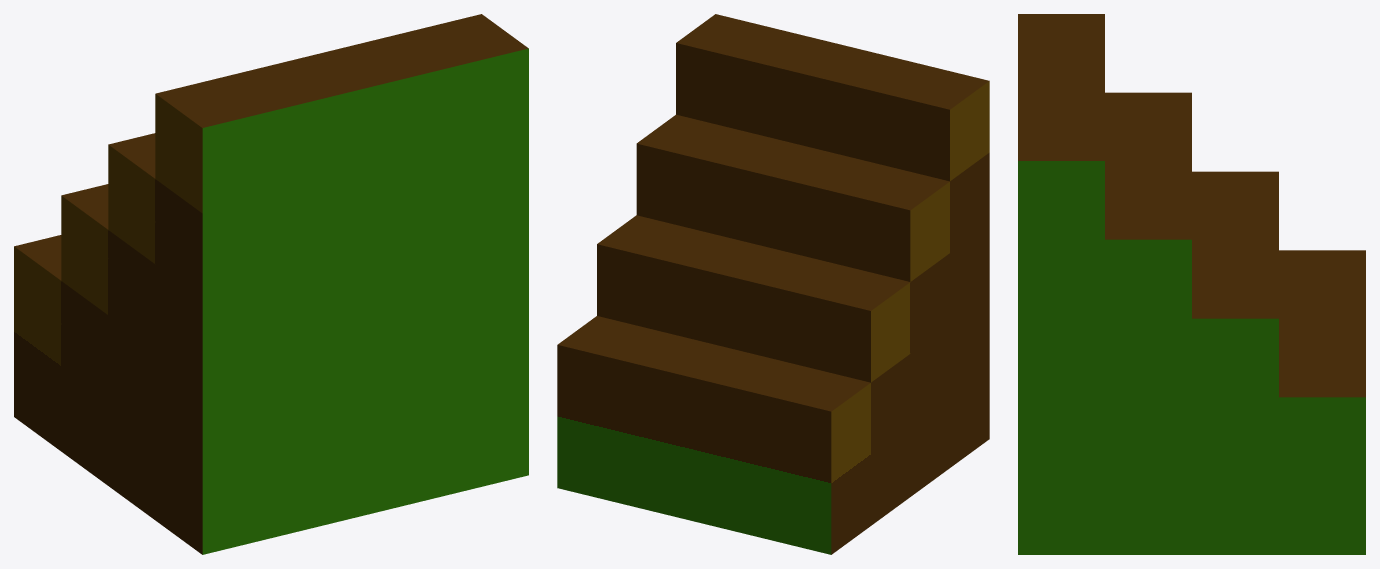
Rendered from block_3.fbx.
The picture shows the model from 3 angles, left to right: view 1: azimuth 30°, elevation 25°; view 2: azimuth 150°, elevation 25°; view 3: azimuth 270°, elevation 25°; orthographic projection. The views are drawn at different scales.
Visible parts, largest first — view 1: Box.008; view 2: Box.008; view 3: Box.008.
Boxes of the visible parts, <box> form: Box.008: <box>14,14,528,554</box>; Box.008: <box>557,14,989,554</box>; Box.008: <box>1018,14,1365,554</box>.
Size of the model in its own units: 400 by 500 by 400.
